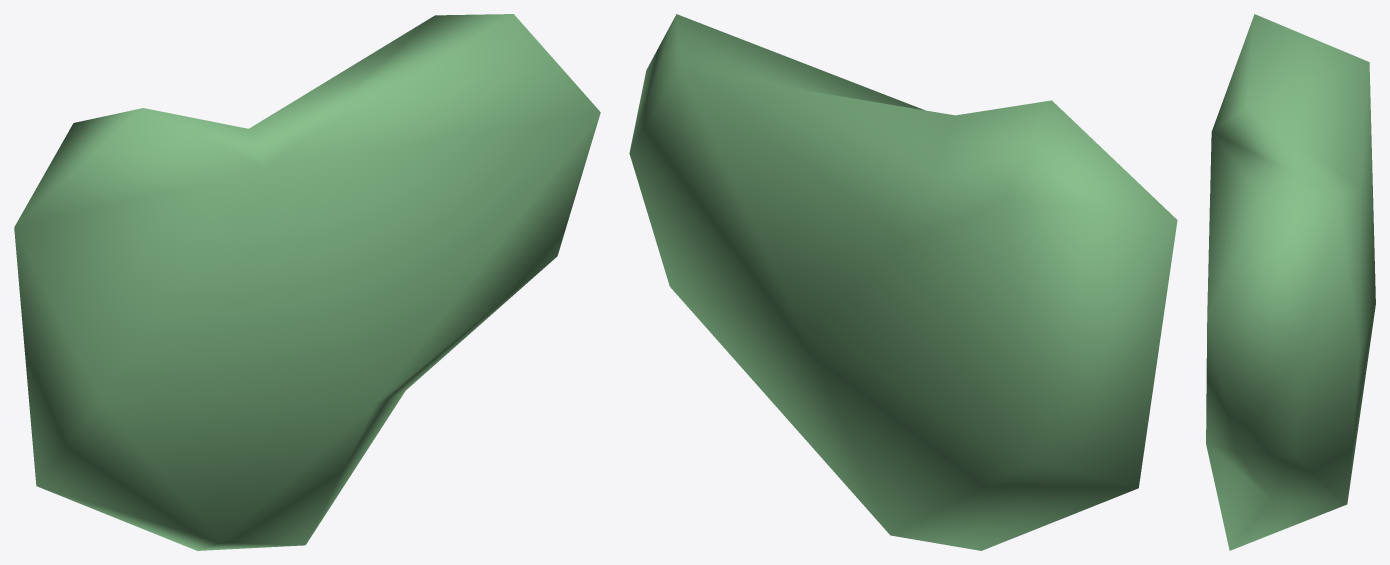
Rendered from rock_001_d.fbx.
The picture shows the model from 3 angles, left to right: view 1: azimuth 30°, elevation 25°; view 2: azimuth 150°, elevation 25°; view 3: azimuth 270°, elevation 25°; orthographic projection.
Parts seen in each view (by area): view 1: rock_001_d_LOD0; view 2: rock_001_d_LOD0; view 3: rock_001_d_LOD0.
Boxes of the visible parts, x1,y1,x2,y2 form: rock_001_d_LOD0: (14, 14, 600, 550); rock_001_d_LOD0: (629, 14, 1177, 550); rock_001_d_LOD0: (1206, 14, 1375, 550).
Bounding box in the file's own units: 67.41 × 17.69 × 53.29.
